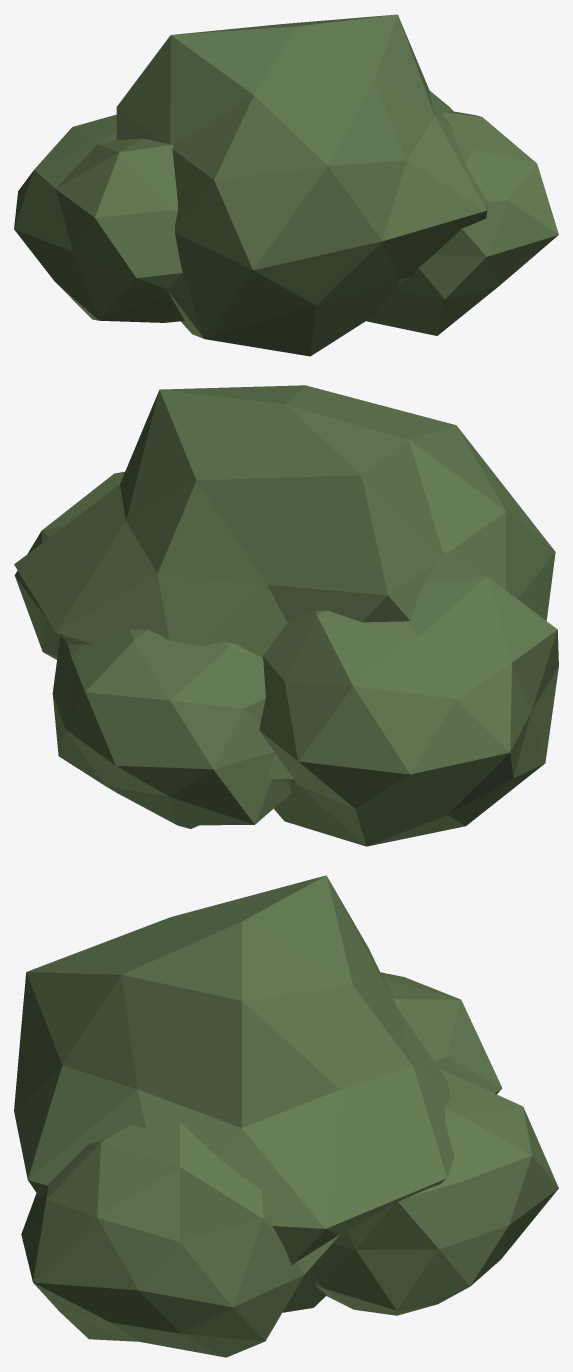
Rendered from bush.glb.
The picture shows the model from 3 angles, top to bottom: view 1: azimuth 30°, elevation 25°; view 2: azimuth 150°, elevation 25°; view 3: azimuth 270°, elevation 25°; orthographic projection. The views are drawn at different scales.
Visible parts, largest first — view 1: bush; view 2: bush; view 3: bush.
Boxes of the visible parts, box(x1,y1,x2,y2) form: bush: box(14, 14, 558, 356); bush: box(14, 385, 558, 846); bush: box(14, 875, 558, 1357).
Bounding box in the file's own units: 2.16 × 1.37 × 1.76.
